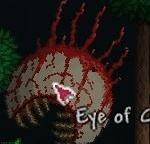eyeC: (1, 1, 150, 144)
